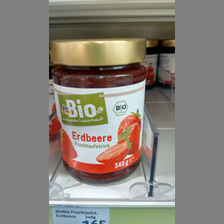jam: (50, 38, 149, 185)
